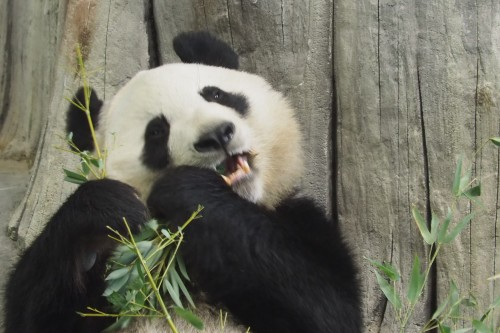Giant panda: (62, 27, 308, 217)
